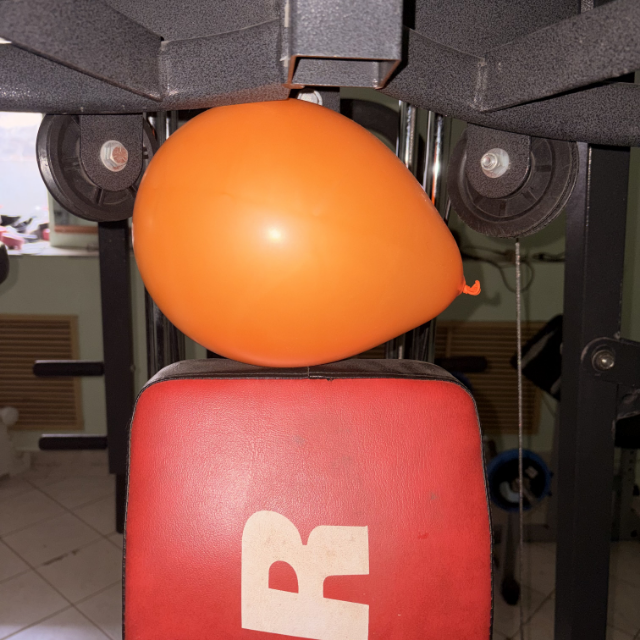balloon: (131, 96, 481, 369)
